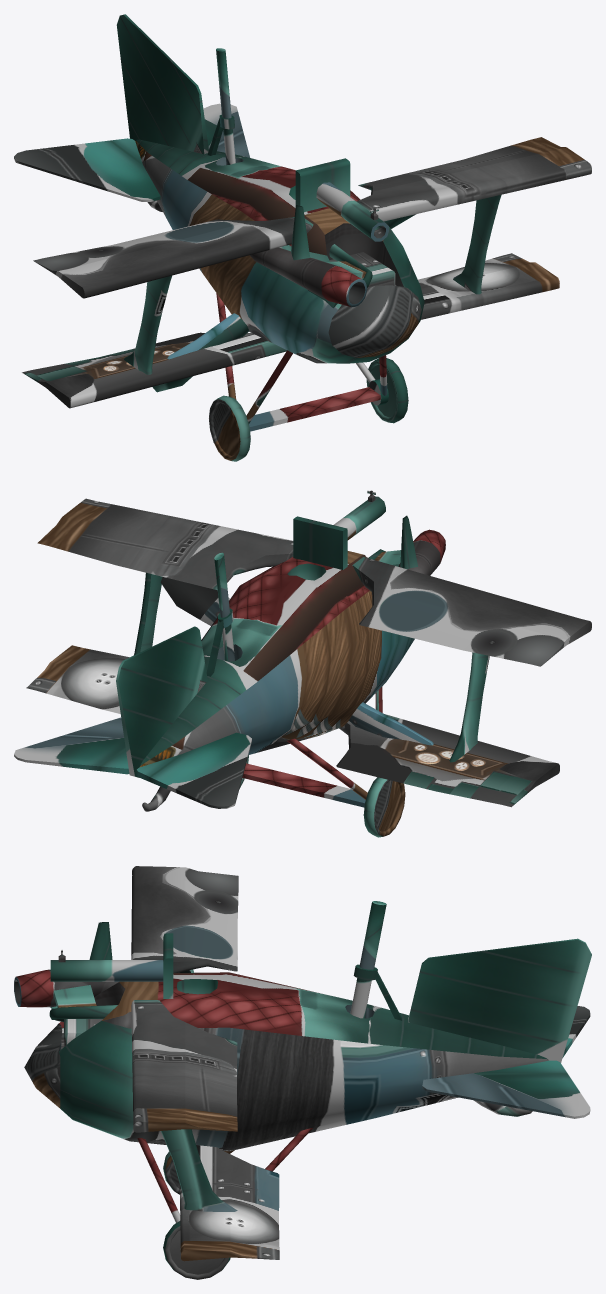
Rendered from Boss07.fbx.
The picture shows the model from 3 angles, top to bottom: view 1: azimuth 30°, elevation 25°; view 2: azimuth 150°, elevation 25°; view 3: azimuth 270°, elevation 25°; orthographic projection. The views are drawn at different scales.
Visible parts, largest first — view 1: Boss07, Propeller; view 2: Boss07, Propeller; view 3: Boss07.
Part boxes in pixels (x1=…): Boss07: x1=14, y1=14, x2=591, y2=461; Propeller: x1=152, y1=214, x2=416, y2=392; Boss07: x1=14, y1=490, x2=591, y2=837; Propeller: x1=160, y1=577, x2=433, y2=745; Boss07: x1=14, y1=866, x2=591, y2=1279.
Bounding box in the file's own units: 111 × 68.43 × 106.
